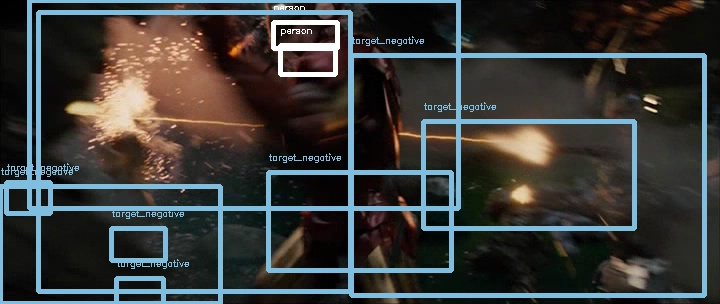person: (261, 1, 329, 54), (260, 1, 328, 54), (262, 1, 330, 54), (261, 0, 329, 53), (261, 2, 329, 55)
target_negative: (394, 30, 567, 176), (426, 118, 577, 216), (50, 176, 127, 227), (511, 82, 668, 105), (157, 262, 316, 276), (40, 296, 418, 299)
